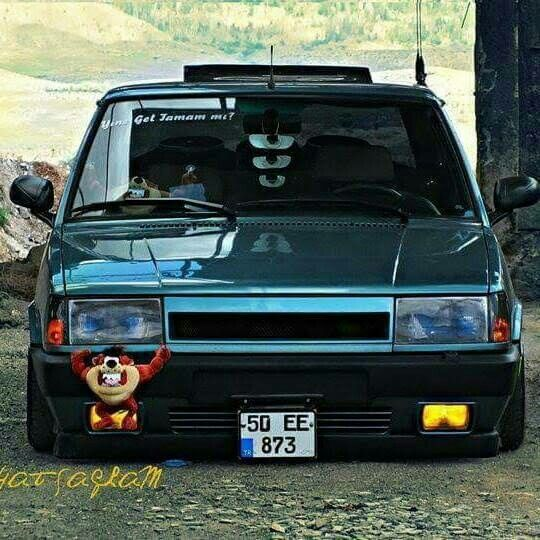plate: (224, 411, 333, 458)
